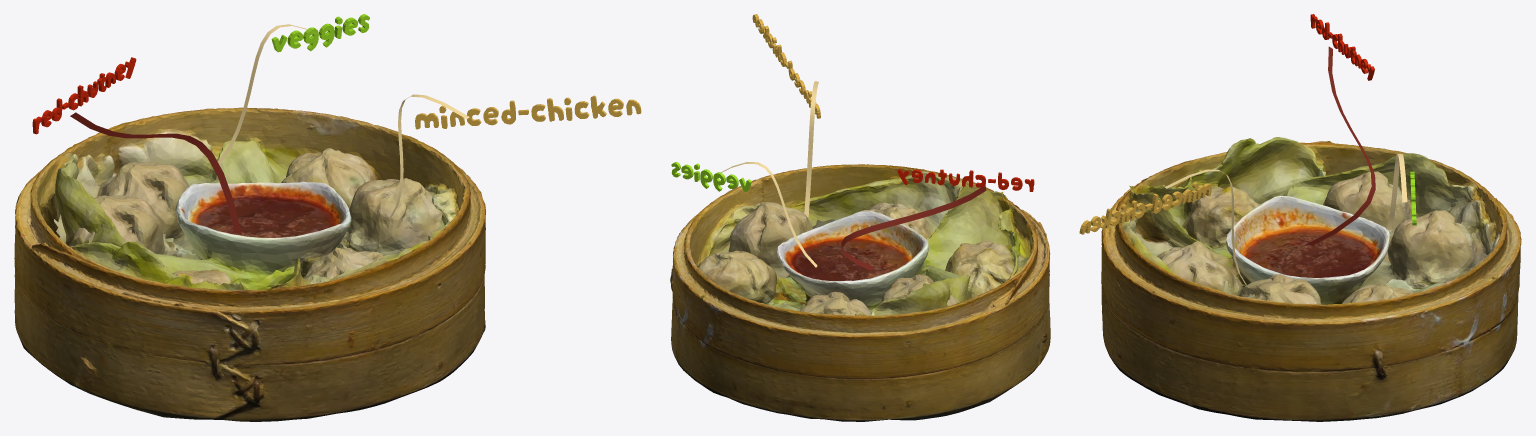
File: momos.glb
3 renders of one model, left to right at view 1: azimuth 30°, elevation 25°; view 2: azimuth 150°, elevation 25°; view 3: azimuth 270°, elevation 25°, orthographic. The views are drawn at different scales.
Parts seen in each view (by area): view 1: Mesh_0.001, Text.002, Text.006, Text.005, BézierCurve.004, BézierCurve.003; view 2: Mesh_0.001, Text.006, BézierCurve.004, BézierCurve.003, Text.005, Text.002; view 3: Mesh_0.001, Text.002, BézierCurve.003, BézierCurve.004, Text.006.
Boxes of the visible parts, left/top/right/bottom form: Mesh_0.001: left=14, top=107, right=485, bottom=421; Text.002: left=415, top=95, right=641, bottom=129; Text.006: left=32, top=57, right=136, bottom=134; Text.005: left=271, top=14, right=369, bottom=52; BézierCurve.004: left=70, top=112, right=241, bottom=235; BézierCurve.003: left=218, top=24, right=469, bottom=219; Mesh_0.001: left=670, top=164, right=1050, bottom=421; Text.006: left=897, top=169, right=1034, bottom=191; BézierCurve.004: left=840, top=185, right=986, bottom=270; BézierCurve.003: left=721, top=81, right=818, bottom=267; Text.005: left=671, top=162, right=751, bottom=191; Text.002: left=752, top=14, right=820, bottom=118; Mesh_0.001: left=1101, top=137, right=1521, bottom=421; Text.002: left=1079, top=182, right=1211, bottom=234; BézierCurve.003: left=1165, top=153, right=1407, bottom=284; BézierCurve.004: left=1303, top=46, right=1375, bottom=245; Text.006: left=1310, top=14, right=1374, bottom=80.
Bounding box in the file's own units: 0.6588 × 0.3494 × 0.5914.
Materials: 7 (1 with a texture image).
